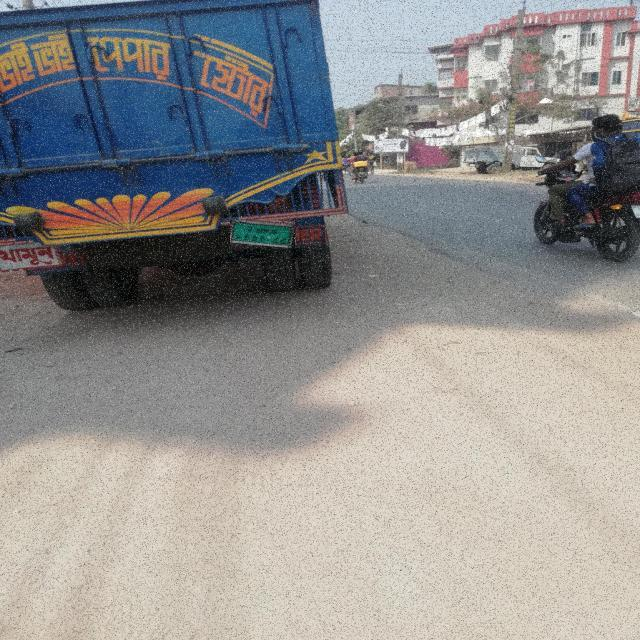numberplate: (230, 220, 295, 249)
